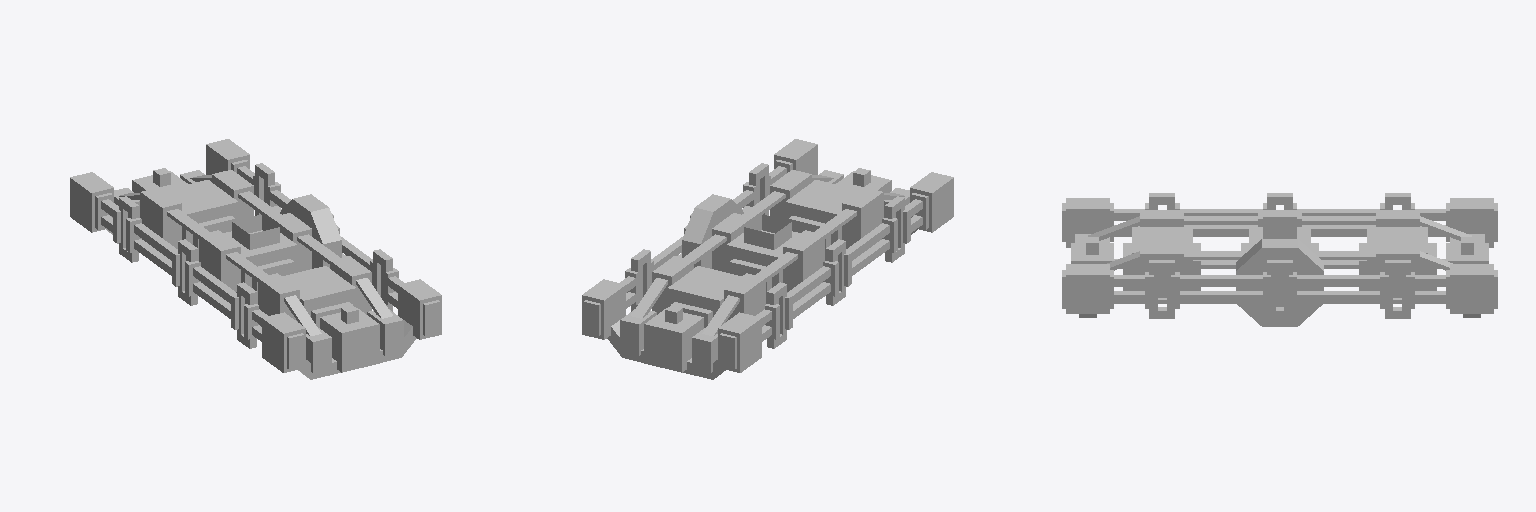
Rendered from frame.obj.
The picture shows the model from 3 angles: view 1: azimuth 30°, elevation 25°; view 2: azimuth 150°, elevation 25°; view 3: azimuth 270°, elevation 25°; orthographic projection.
Parts seen in each view (by area): view 1: cube_77, cube_81, cube_97, Cube.001_67, cube_90, cube_83, cube_29, cube_2, cube_61, cube_98, cube_0, cube_89 (+15 smaller); view 2: cube_73, cube_97, cube_81, Cube.001_67, cube_90, cube_98, cube_2, cube_29, cube_34, cube_83, cube_0, cube_89 (+15 smaller); view 3: Cube.001_67, cube_34, cube_61, cube_2, cube_29, cube_81, cube_97, cube_82, cube_99, cube_50, cube_51, cube_52 (+15 smaller).
Part boxes in pixels (x1,y1,x2,y2): cube_77: (320, 308, 379, 372); cube_81: (165, 180, 238, 244); cube_97: (282, 266, 356, 316); Cube.001_67: (280, 194, 341, 268); cube_90: (199, 230, 240, 291); cube_83: (140, 187, 181, 248); cube_29: (262, 312, 305, 372); cube_2: (70, 172, 113, 232); cube_61: (398, 279, 441, 339); cube_98: (258, 273, 299, 321); cube_0: (232, 214, 279, 249); cube_89: (223, 230, 297, 287); cube_73: (644, 308, 703, 372); cube_97: (785, 180, 858, 244); cube_81: (667, 266, 741, 316); Cube.001_67: (682, 194, 743, 268); cube_90: (783, 230, 824, 291); cube_98: (842, 187, 883, 248); cube_2: (718, 312, 761, 372); cube_29: (910, 172, 953, 232); cube_34: (582, 279, 625, 339); cube_83: (724, 273, 765, 321); cube_0: (744, 214, 791, 249); cube_89: (726, 230, 800, 287); Cube.001_67: (1236, 239, 1323, 326); cube_34: (1450, 264, 1493, 313); cube_61: (1066, 264, 1109, 313); cube_2: (1450, 198, 1493, 247); cube_29: (1066, 198, 1109, 247); cube_81: (1367, 227, 1427, 274); cube_97: (1132, 227, 1192, 274); cube_82: (1376, 245, 1419, 297); cube_99: (1140, 245, 1183, 297); cube_50: (1297, 275, 1379, 286); cube_51: (1297, 291, 1379, 302); cube_52: (1180, 291, 1262, 302).
Bounding box in the file's own units: 2.62 × 1.25 × 6.25.